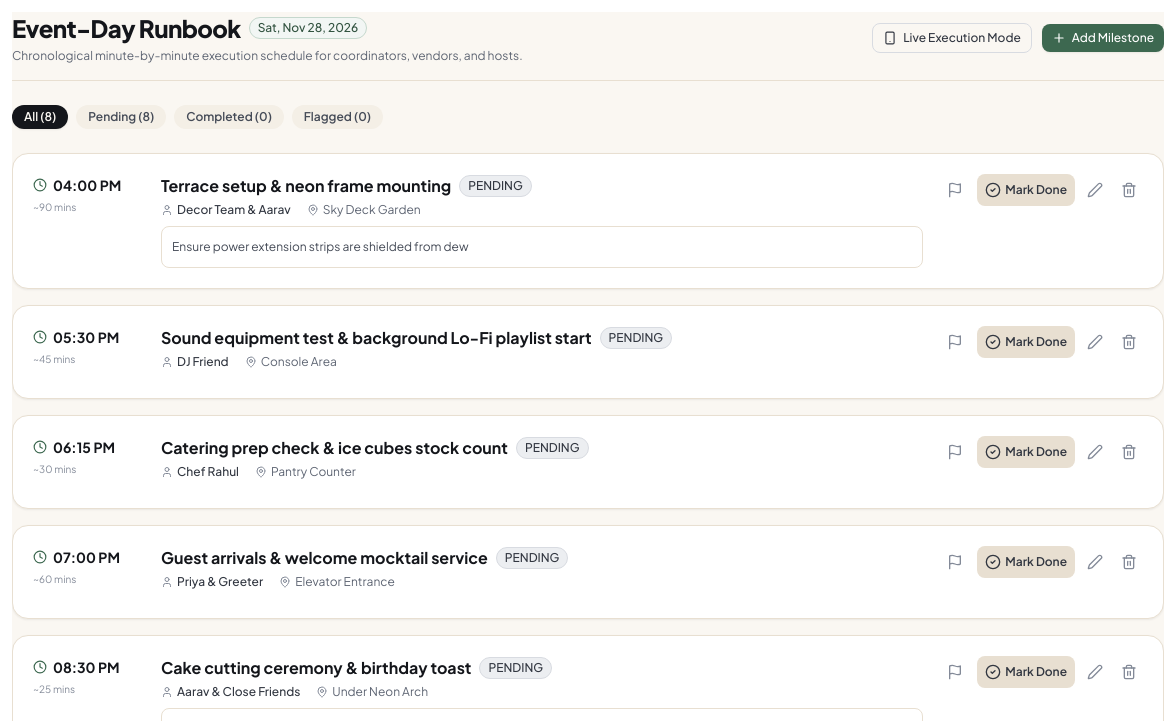
Scenario: RunbookPage Feature Tests › toggles live execution mode button
The width and height of the screenshot is (1176, 721).
Click the button "Live Execution Mode" at (952, 38), box [872, 23, 1032, 53]
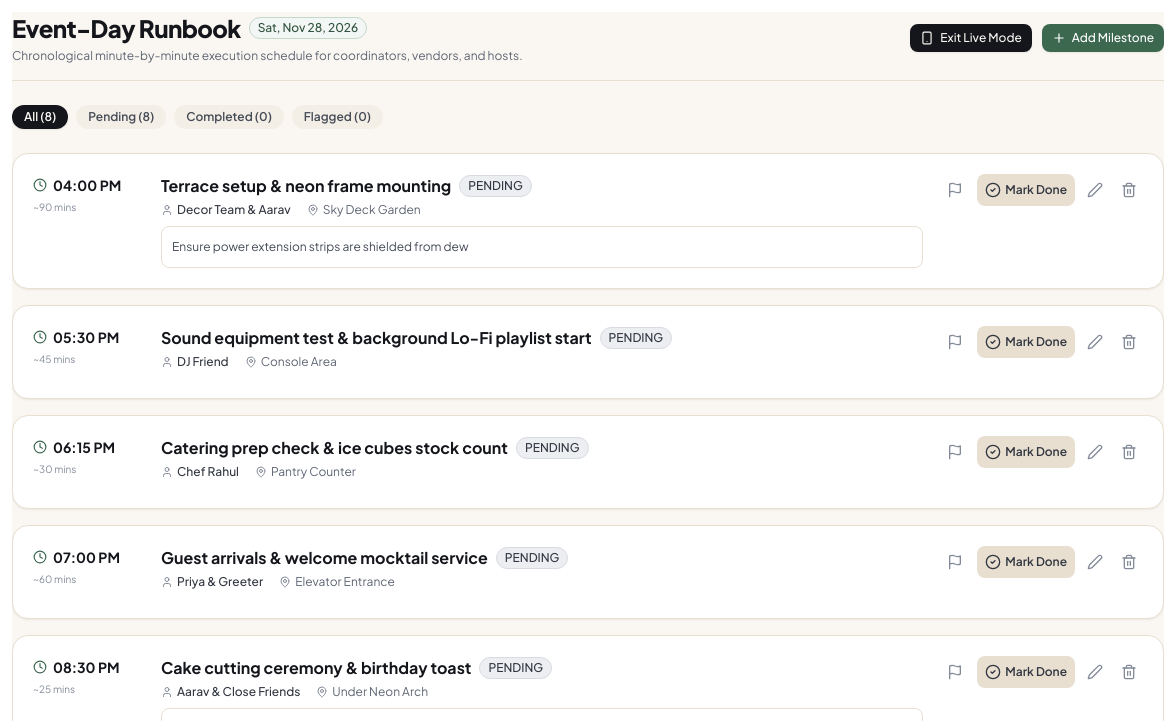
Expected: the button "Exit Live Mode" is shown, [910, 24, 1032, 52]
